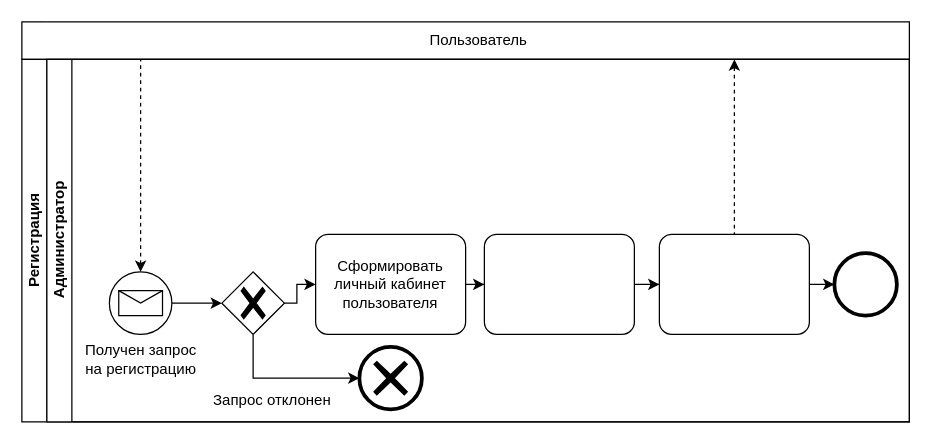
The diagram is 931 pixels wide and 444 high, and some of its shapes have lost their labels. The centre of each missing label's shape, as x and y in pixels:
"Зарегестрировать пользователя в системе" belongs at point (558, 283).
"Отправить логин и пароль пользователю" belongs at point (733, 283).
